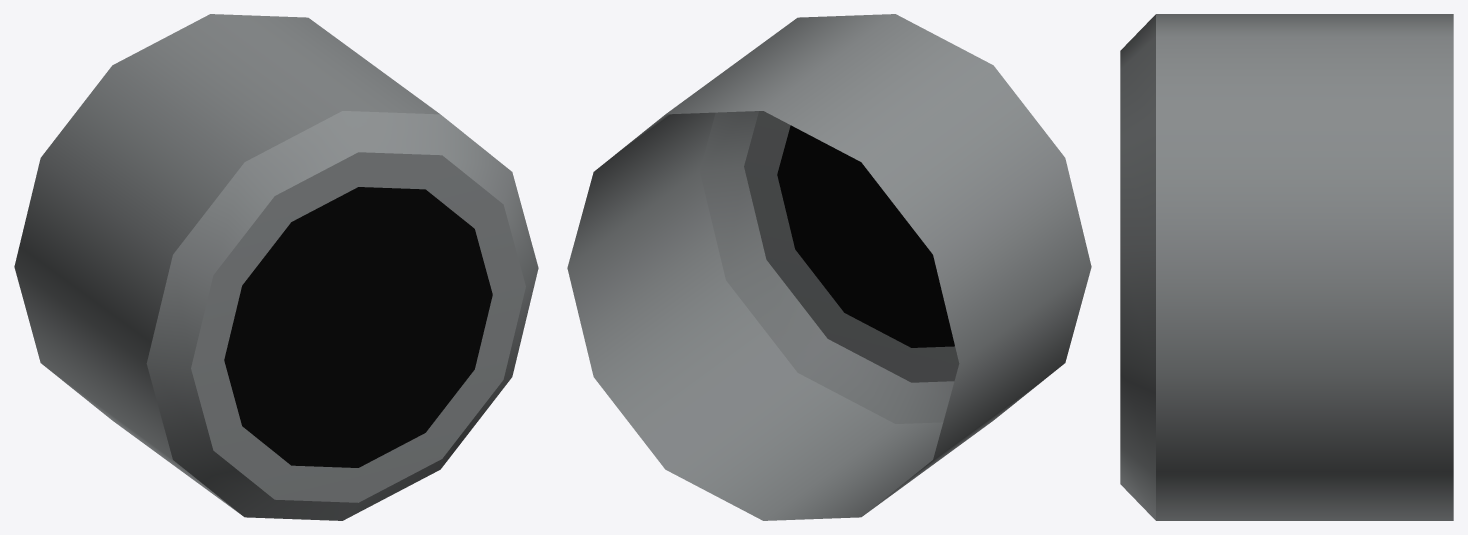
Rendered from Cam_006_eye_001.fbx.
The picture shows the model from 3 angles, left to right: view 1: azimuth 30°, elevation 25°; view 2: azimuth 150°, elevation 25°; view 3: azimuth 270°, elevation 25°; orthographic projection. The views are drawn at different scales.
Visible parts, largest first — view 1: Cam_006_eye_001; view 2: Cam_006_eye_001; view 3: Cam_006_eye_001.
Part boxes in pixels (left/top/right/bottom): Cam_006_eye_001: left=14, top=14, right=538, bottom=520; Cam_006_eye_001: left=567, top=14, right=1091, bottom=520; Cam_006_eye_001: left=1120, top=14, right=1453, bottom=520.
Size of the model in its own units: 5.52 by 3.62 by 5.52.
